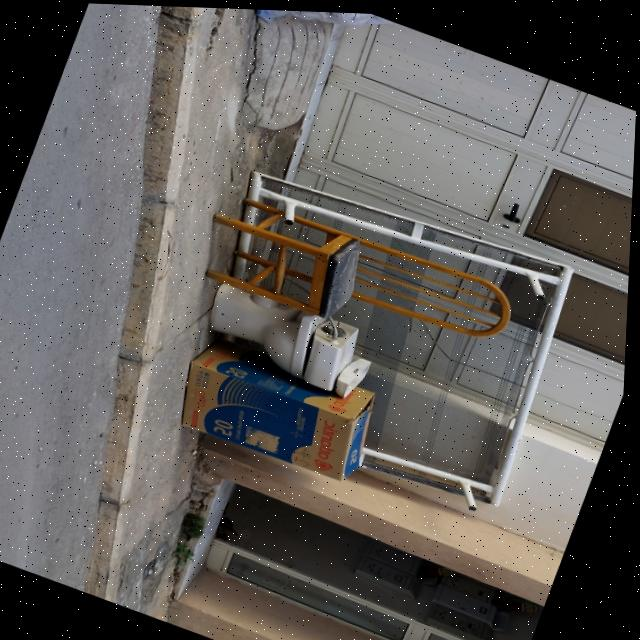Other: (168, 149, 599, 513), (203, 183, 530, 370), (157, 268, 425, 493)
